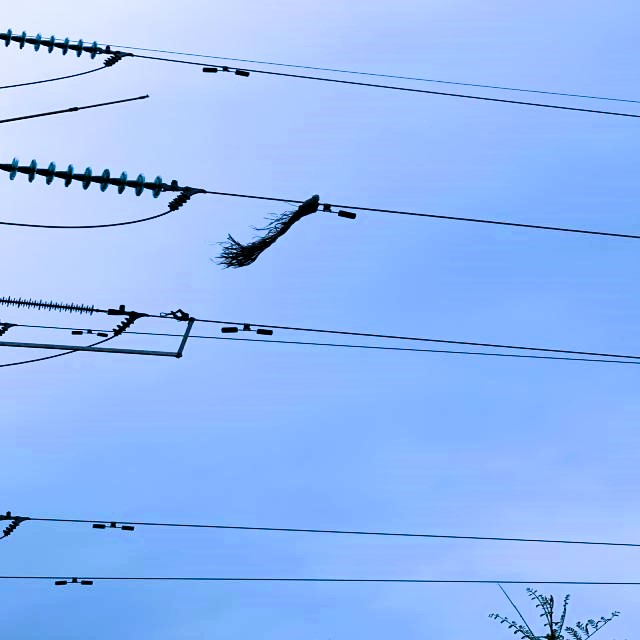wire foreign body: (213, 191, 324, 274)
